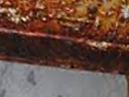rust: (5, 1, 129, 62)
